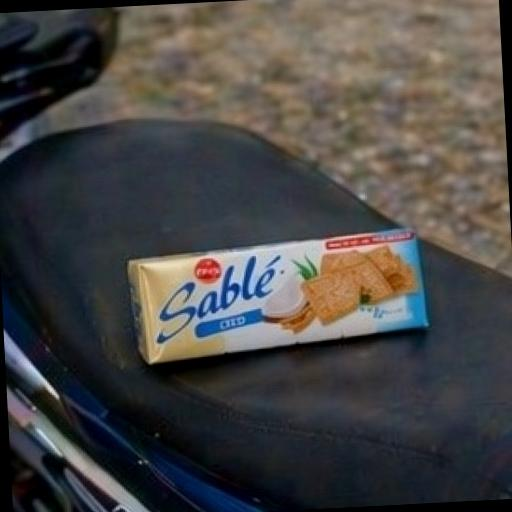sabl: (61, 185, 512, 438)
